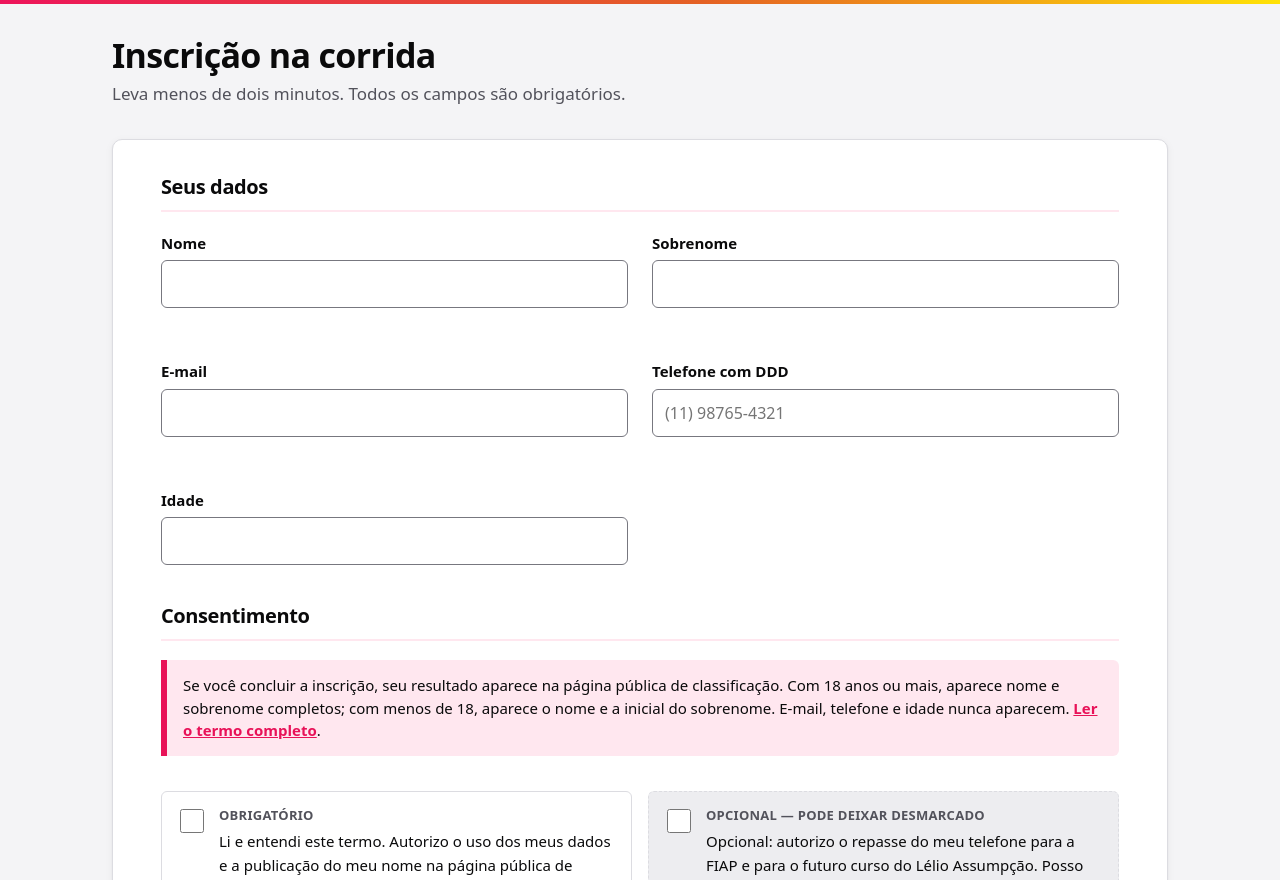
Test: RNF-17 — cada regra com a sua mensagem › erros diferentes produzem mensagens diferentes, e o foco vai para o primeiro
Type "Marina" into the field labelled "Nome" at [394, 284], box [161,260,628,308]
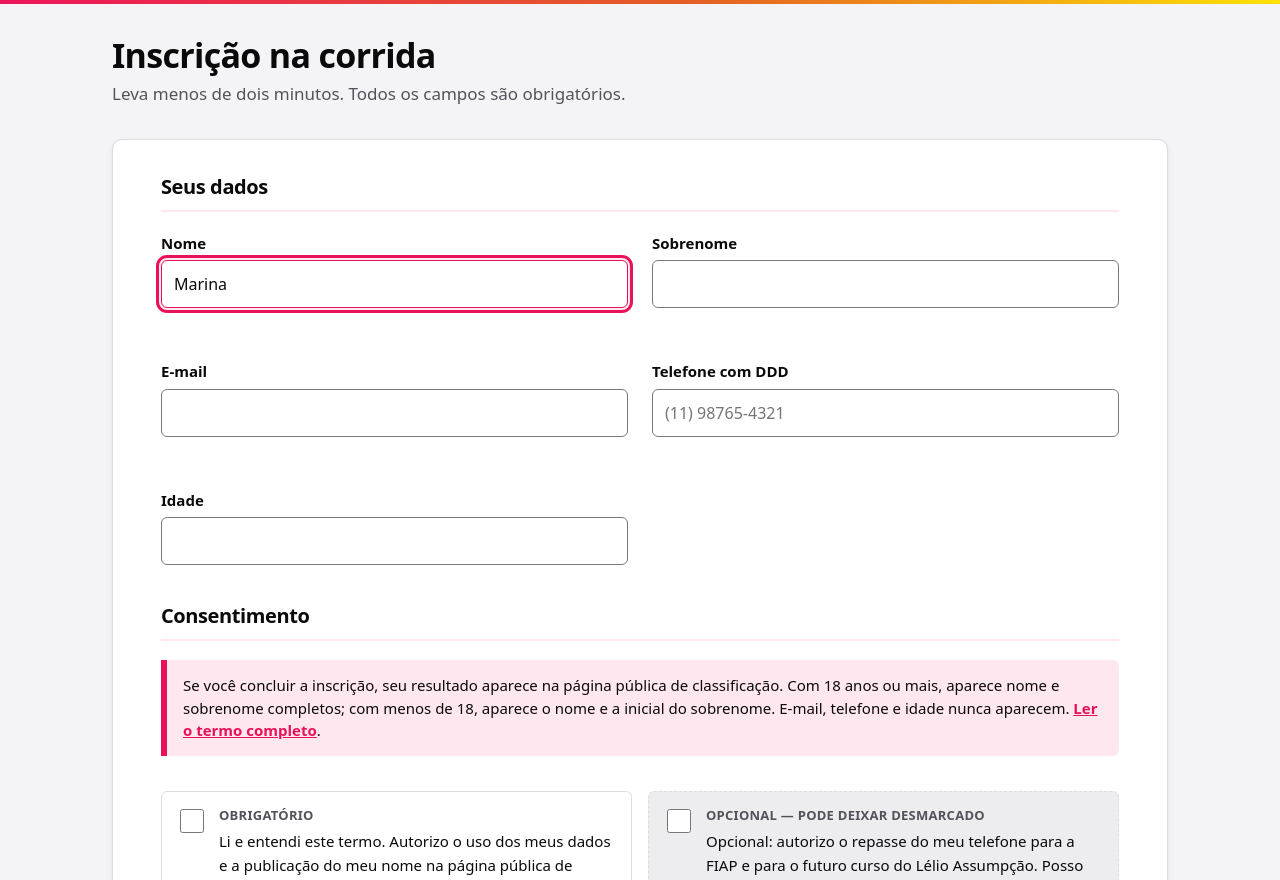
Type "sem-arroba" into the field labelled "E-mail" at [394, 413], box [161,389,628,437]
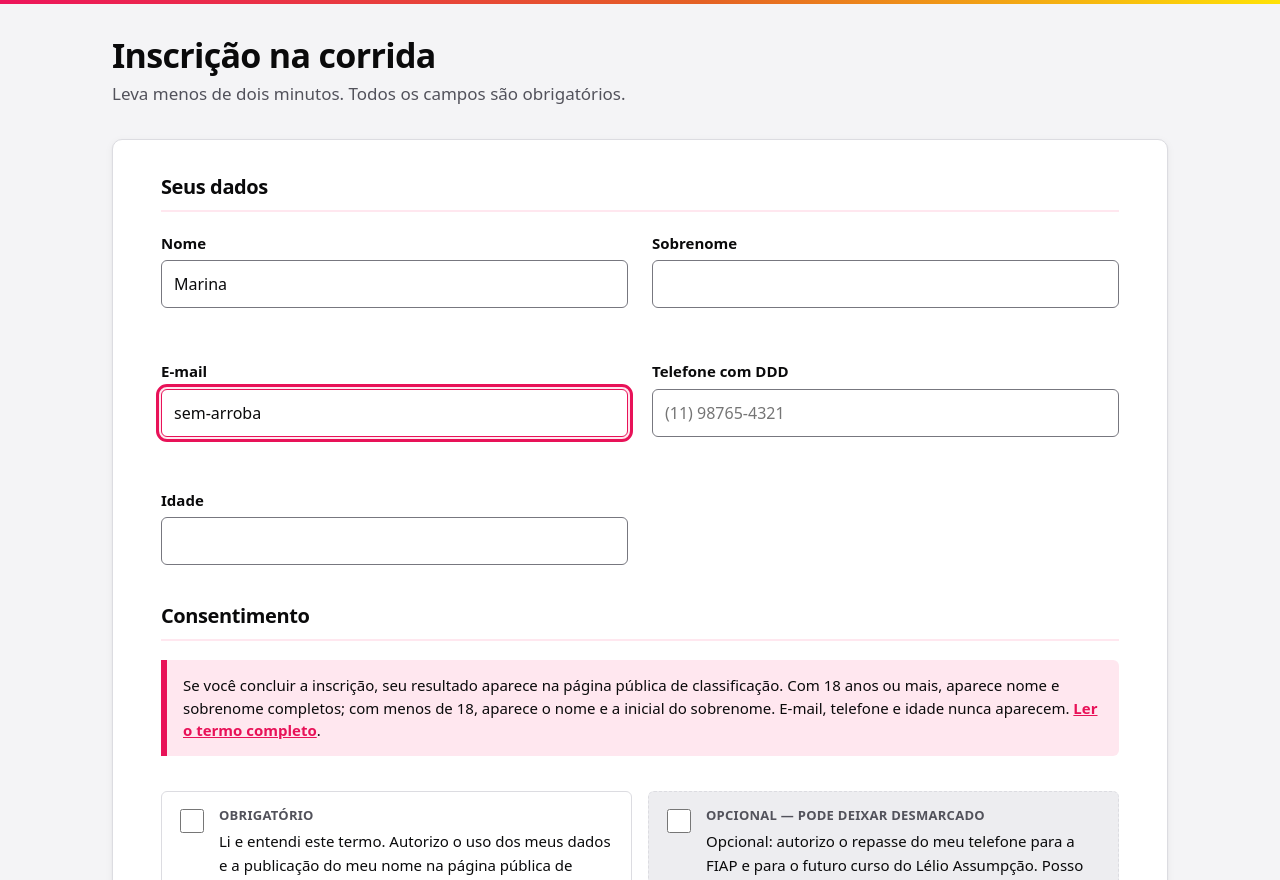
Type "119" into the field labelled "Telefone com DDD" at [886, 413], box [652,389,1119,437]
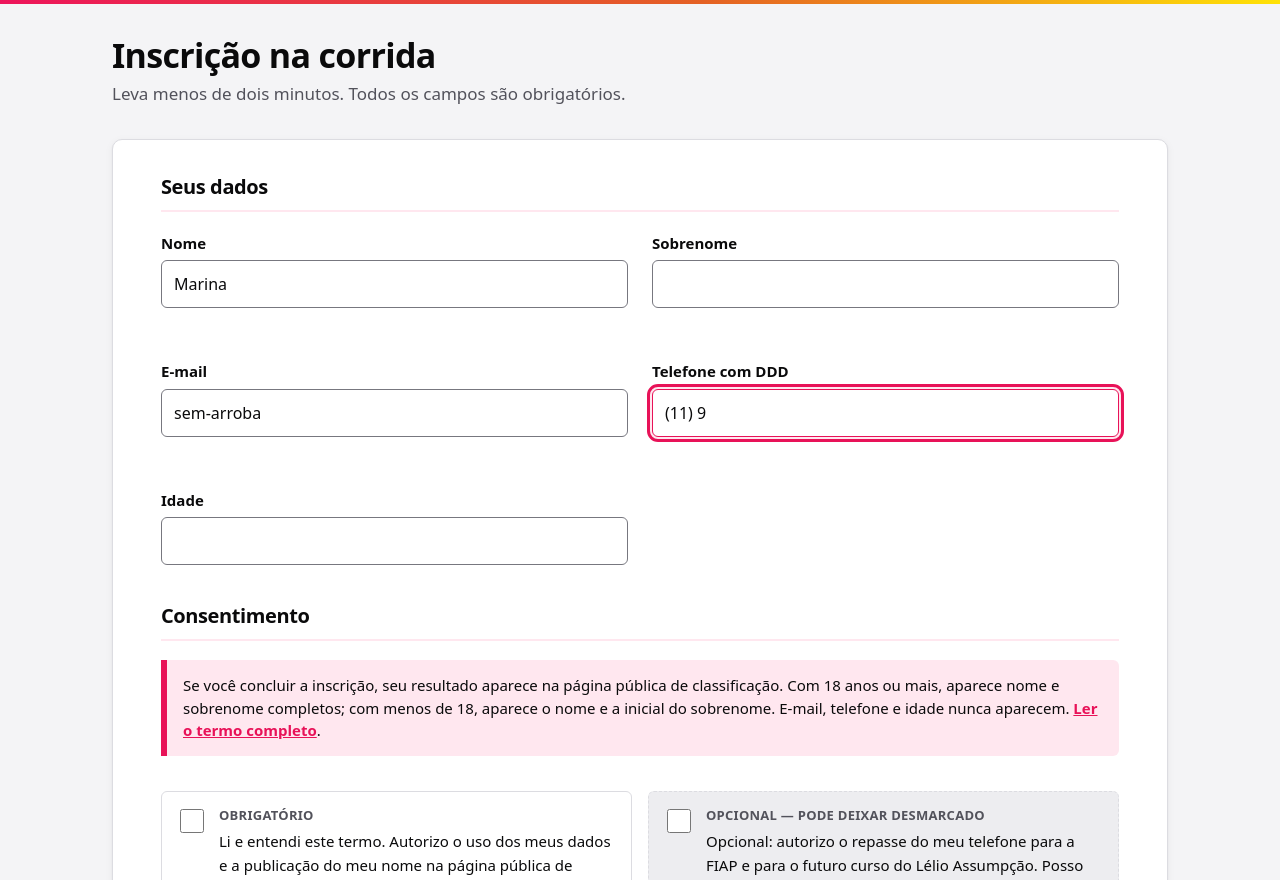
Type "30" into the field labelled "Idade" at [394, 541], box [161,517,628,565]
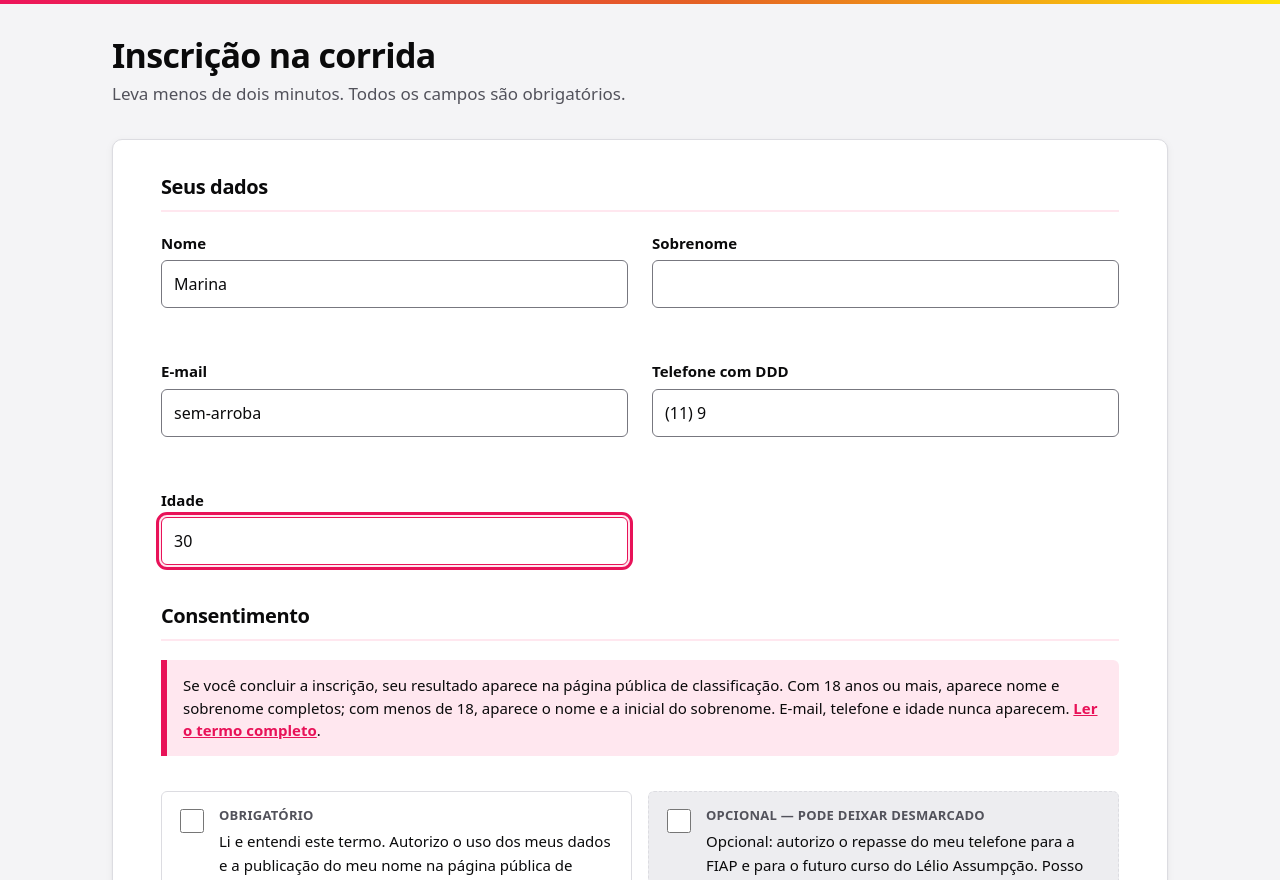
Click the checkbox labelled "Li e entendi este termo" at [192, 821], box [180,809,204,833]
(page scrolled)
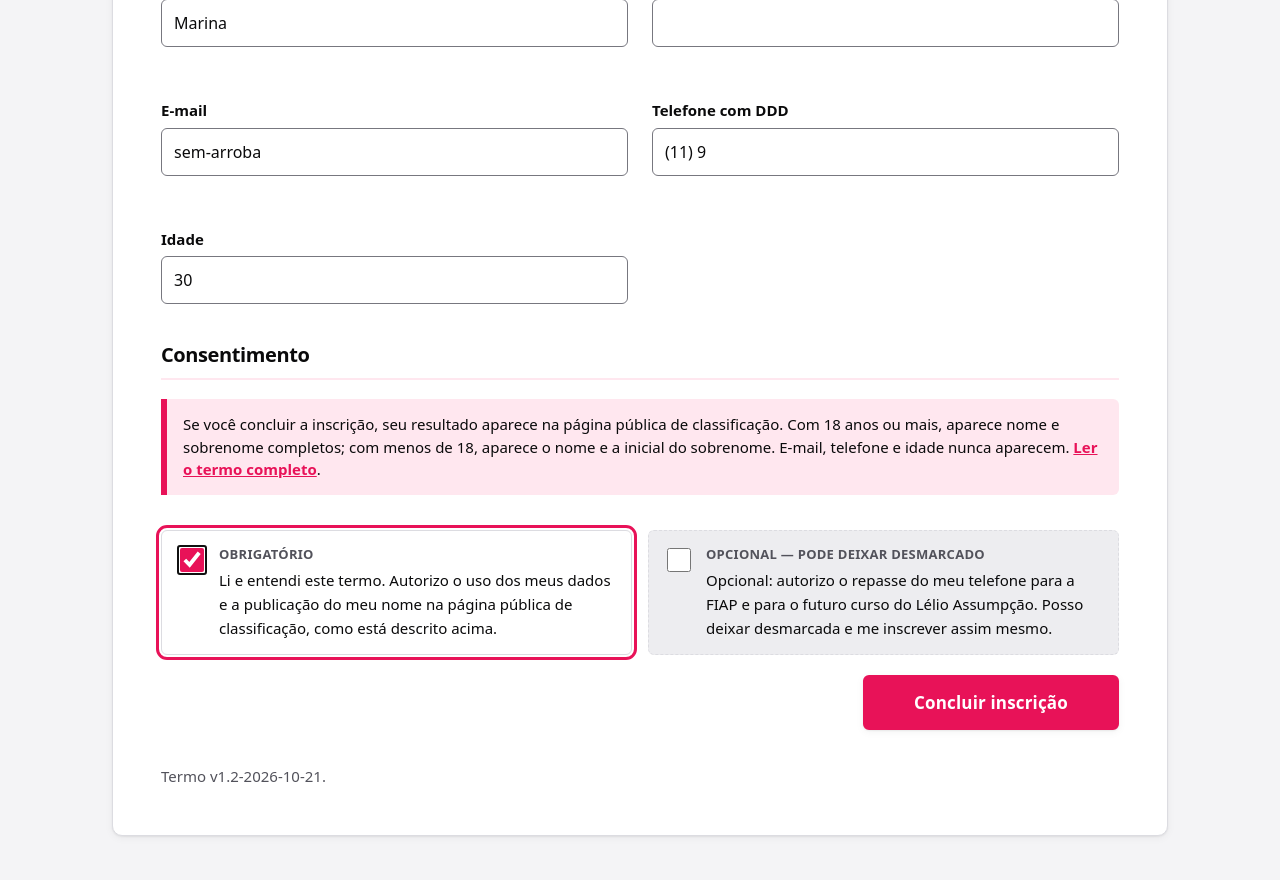
Click the button "Concluir inscrição" at [991, 703], box [863,675,1119,730]
(page scrolled)
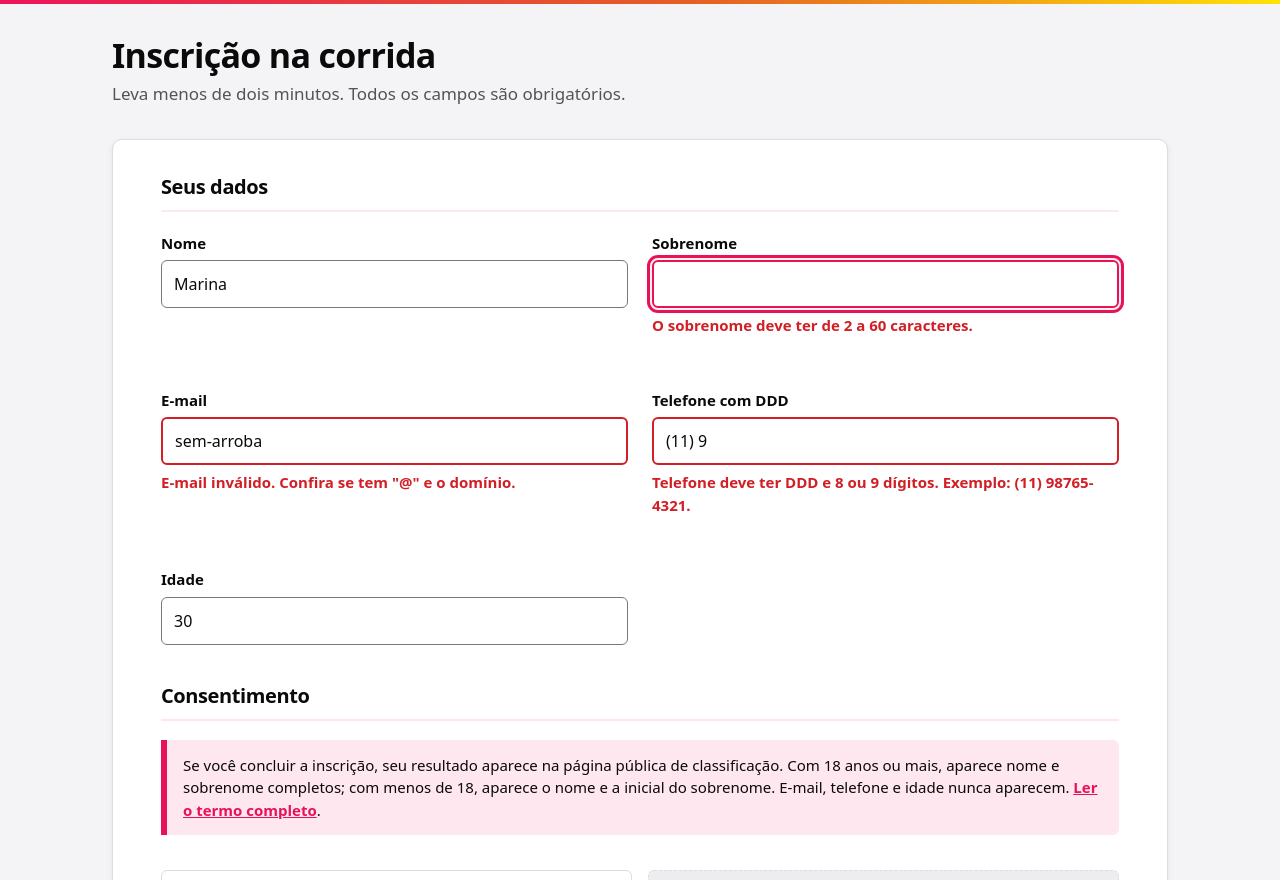
Expected: the text "E-mail inválido. Confira se tem \"@\" e o domínio." is shown, [161,472,516,492]
Expected: the text "DDD e 8 ou 9 dígitos" is shown, [652,472,1094,515]
